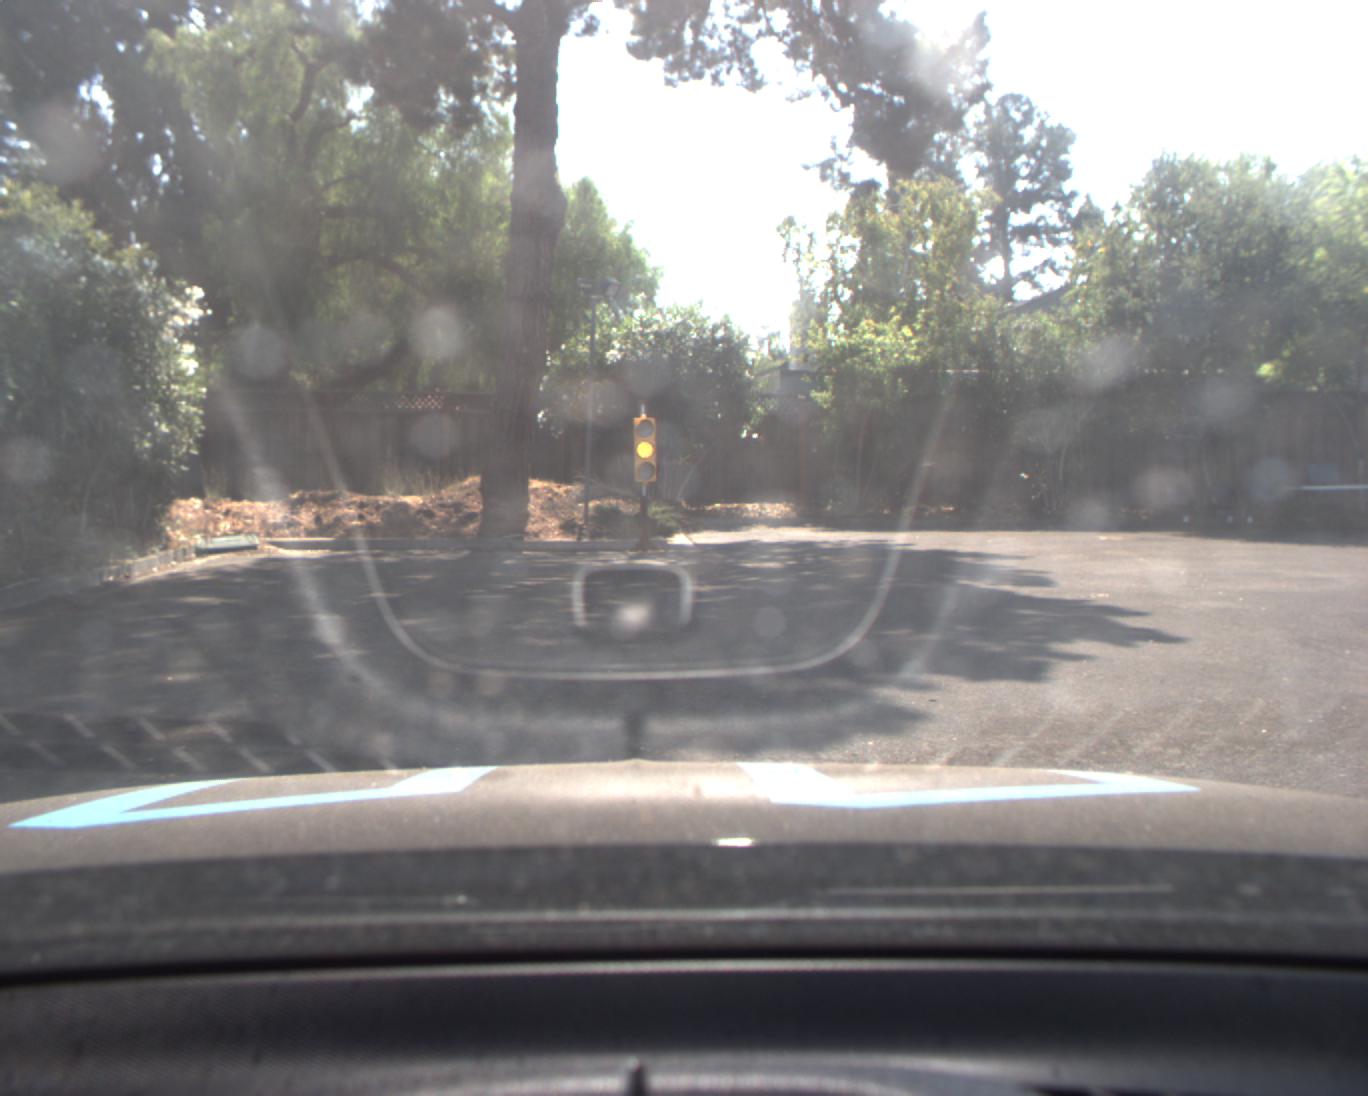yellow: (631, 414, 658, 483)
